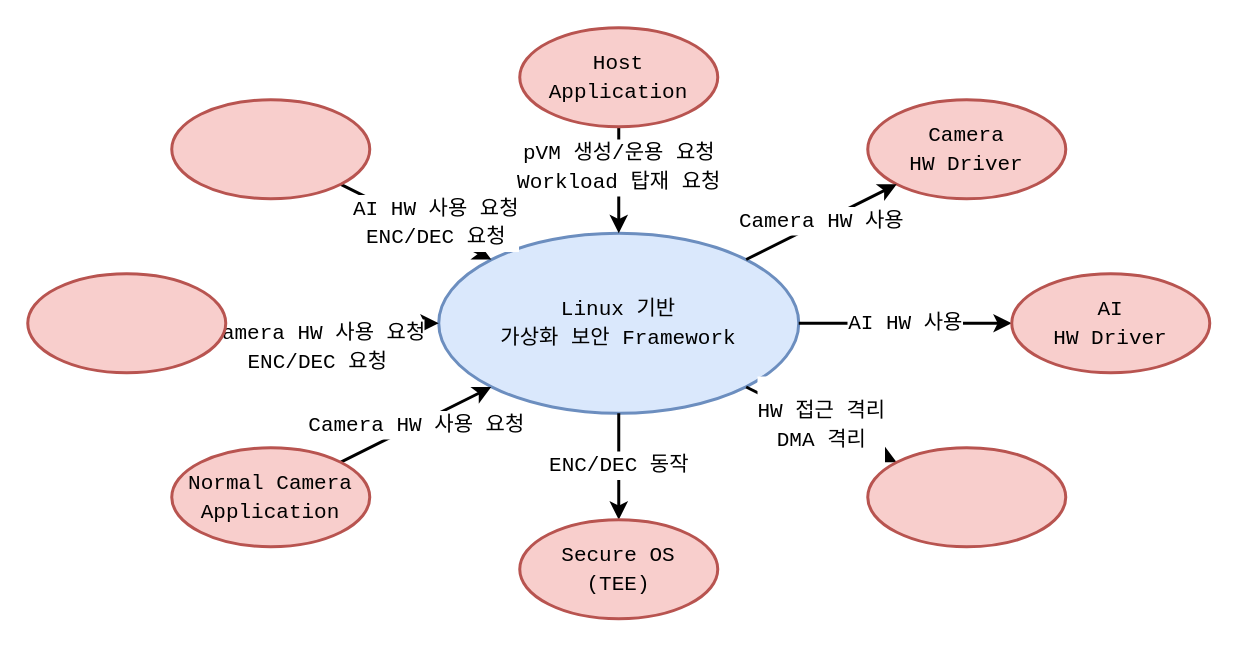
This 1236x645 diagram has some shape labels left out. Here are the shapes that lost their labels. From the top down, the box of each, then its label:
(170, 98, 370, 200): Secure AI Workload
(26, 272, 226, 374): Secure Camera Workload
(866, 446, 1066, 548): S2MPU/DMA HW Driver
